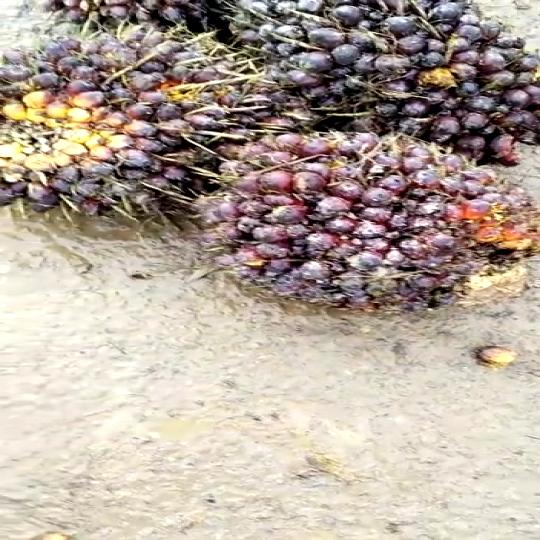kurang masak: (190, 123, 540, 312), (0, 18, 281, 214), (234, 0, 540, 152)
